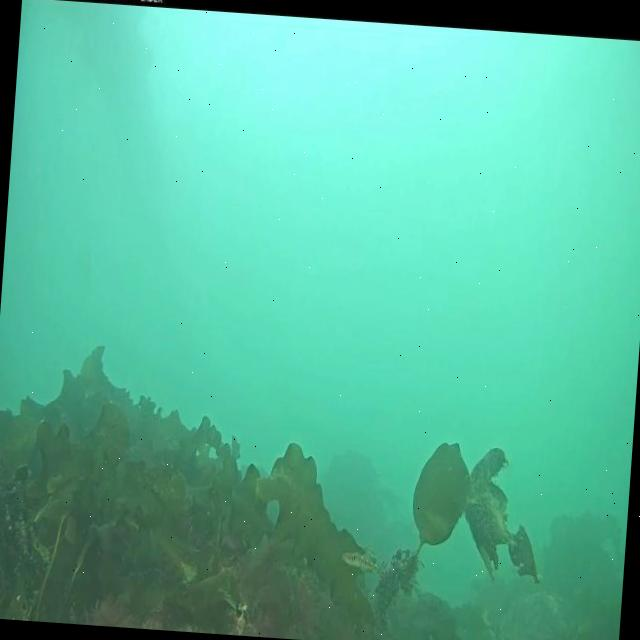fish: (342, 548, 382, 574)
